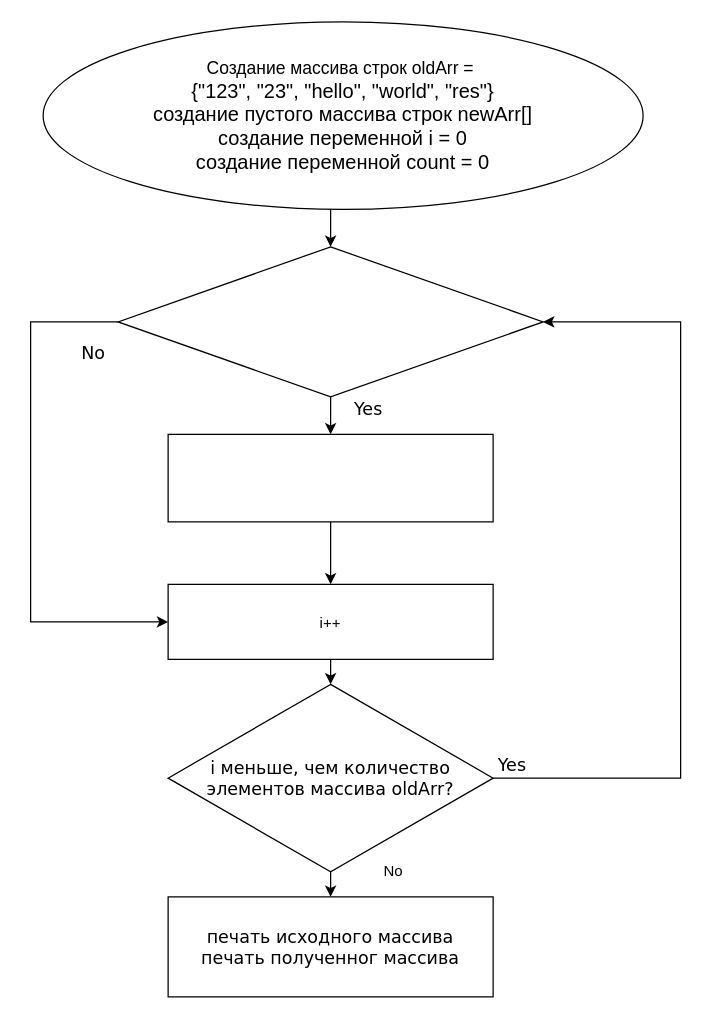
This 713x1019 diagram has some shape labels left out. The box of each missing label's shape, as (x1, y1, x2, y2) in pixels:
newArr[count] = oldArr[i] count++: (167, 433, 493, 522)
длина i-той строки в массиве oldArr <= 3 ?: (117, 246, 543, 397)
